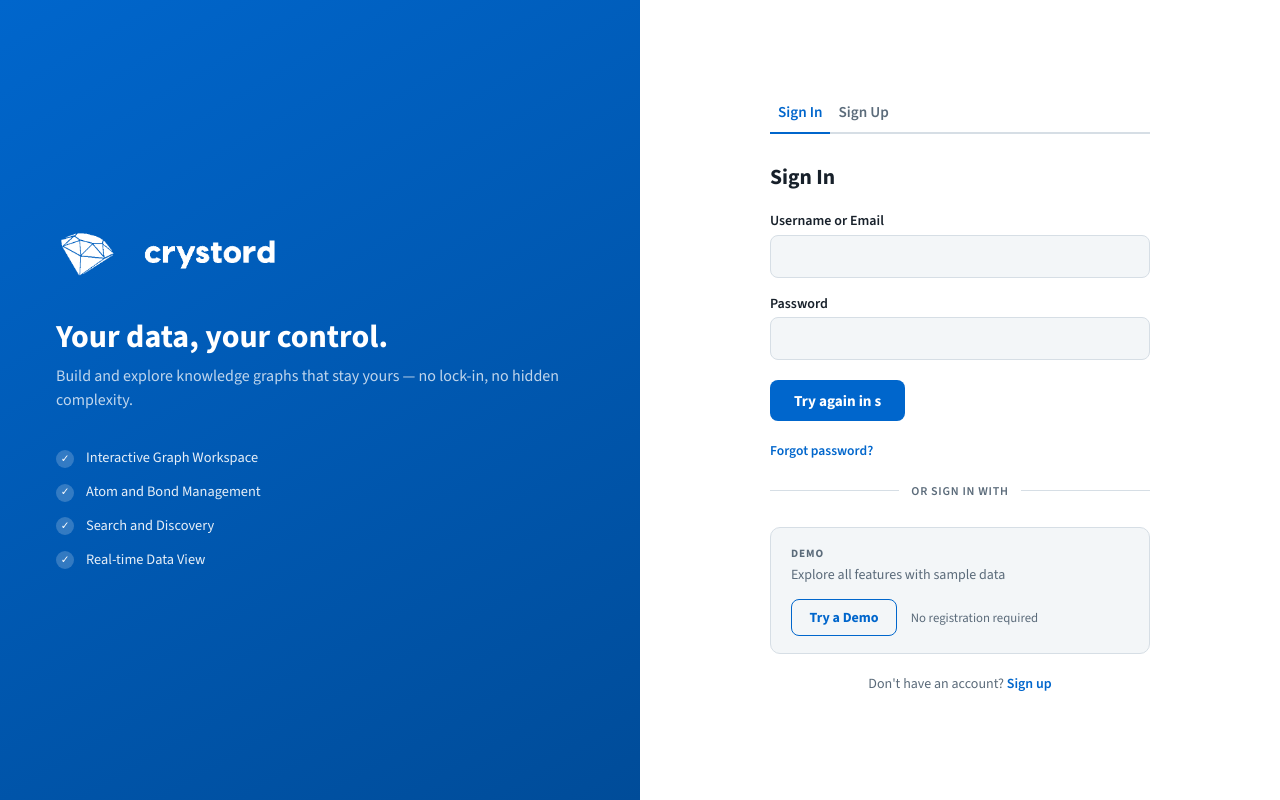
Scenario: SignInPage › "Forgot password?" opens the reset view
Click the button "Forgot password?" at (822, 450), box [770,441,873,459]
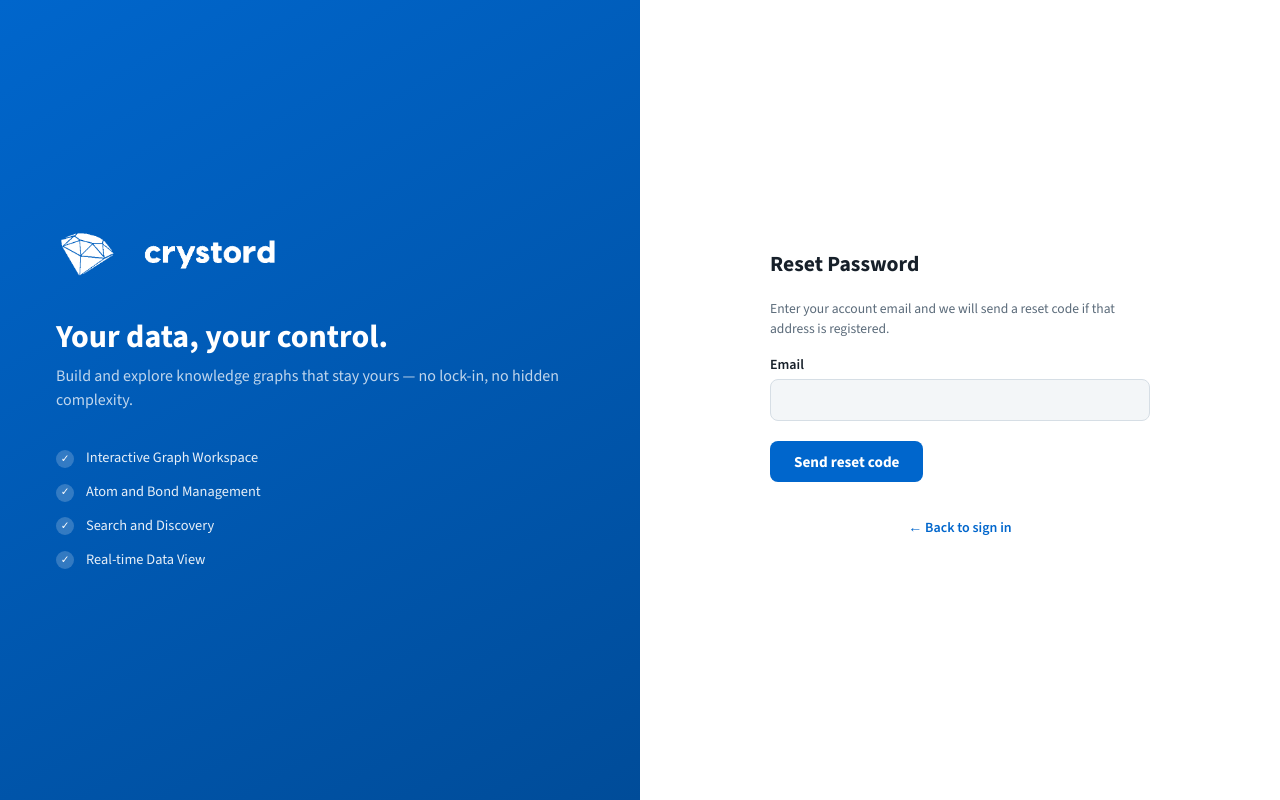
Check: the heading "Reset Password" is shown, box [770,249,919,278]
Check: the button "Send reset code" is shown, box [770,441,924,482]
